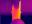Hotspot: (15, 0, 21, 19)
